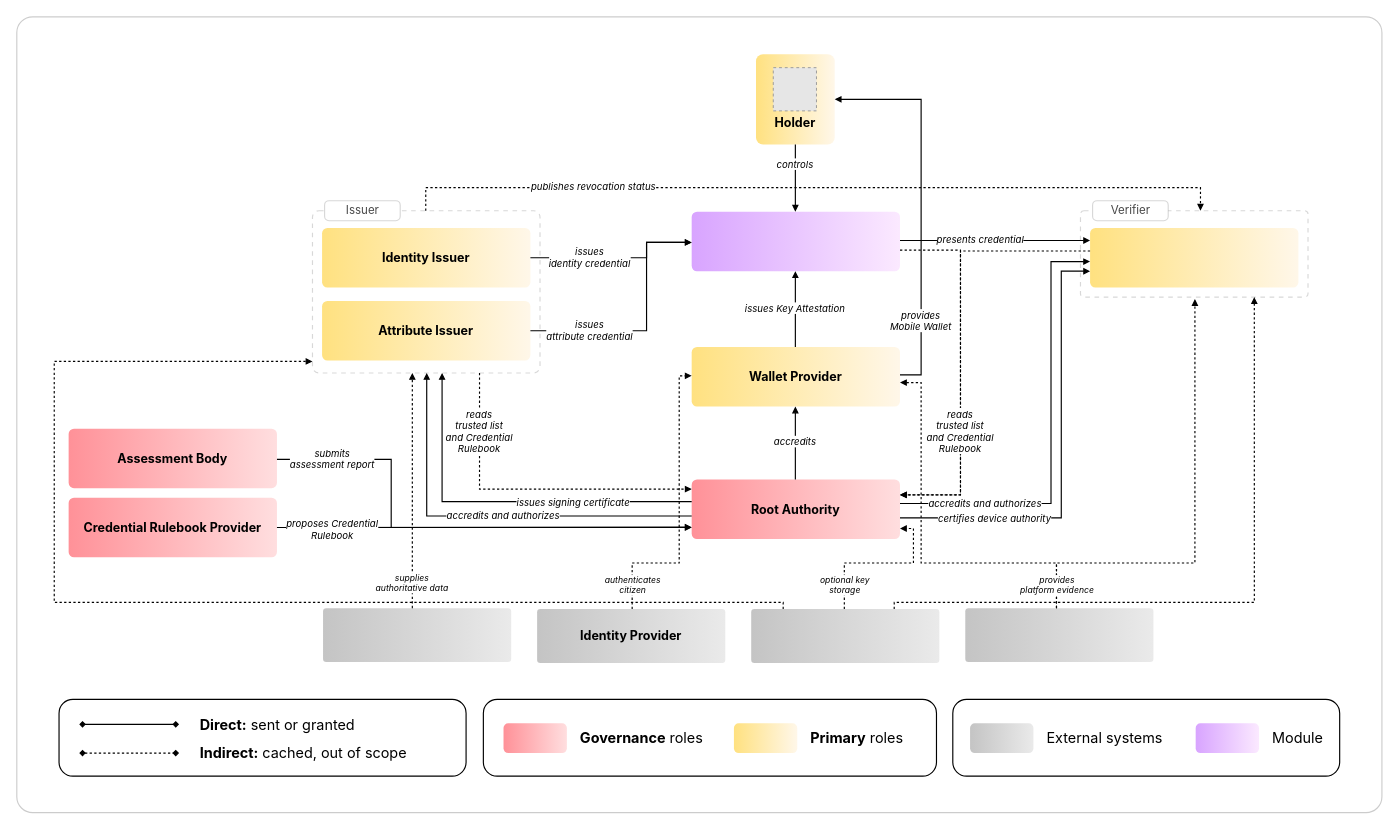
Image size: 1400x830. Some labels were removed from this diagram. Grey dashed boxes stand in for pictures. The box of each missing label's shape, as (x1, y1, x2, y2) in pixels:
Device Platform: (965, 608, 1153, 661)
KMS Provider: (751, 609, 939, 662)
Mobile Wallet: (691, 211, 900, 271)
Relying Party: (1090, 228, 1298, 287)
Source System: (323, 608, 511, 661)
